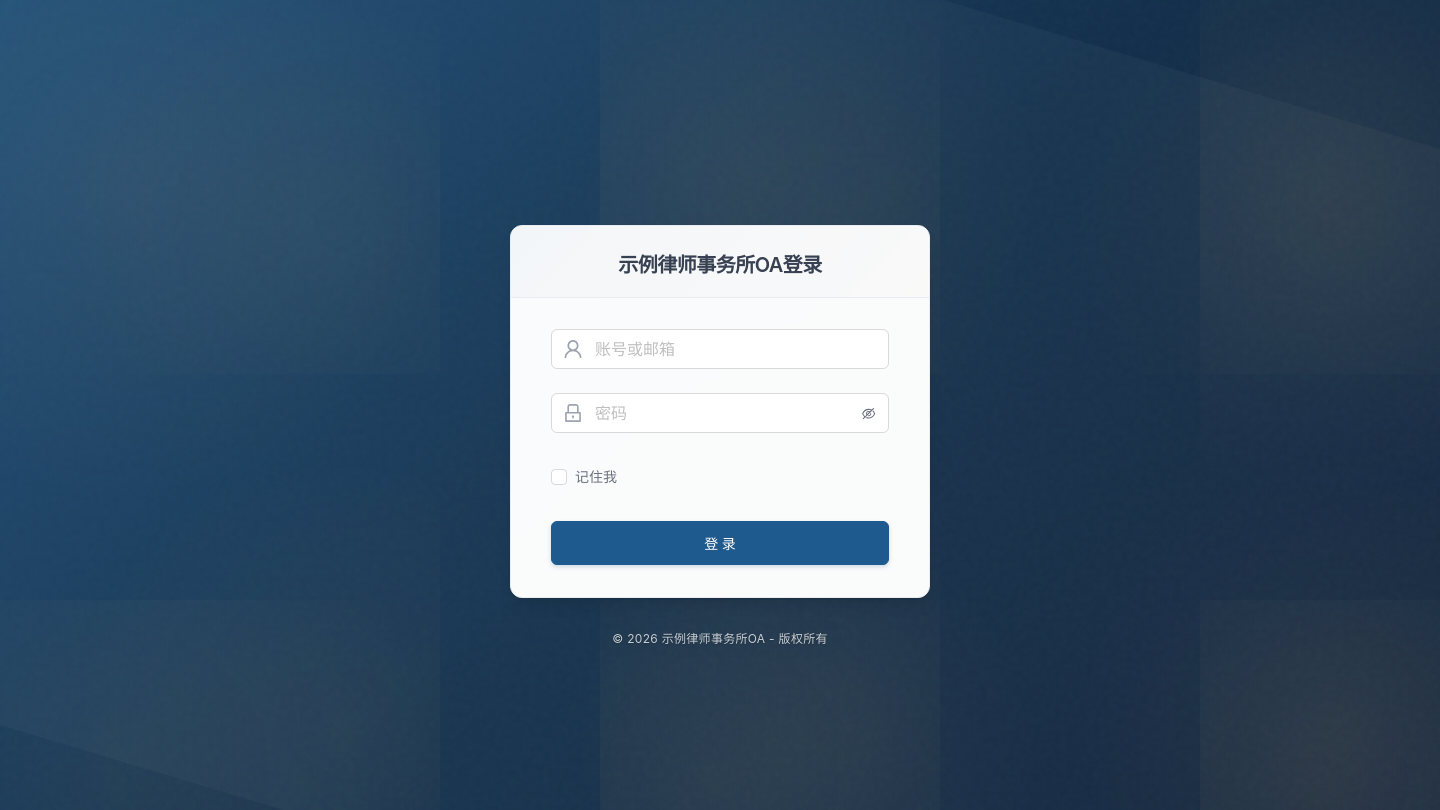
Test: LoginPage login failure › renders a visible non-sensitive alert and preserves account case on 401
Type "  Lawyer.Wang  " into the field with placeholder "账号或邮箱" at (736, 349), box [595, 337, 877, 361]
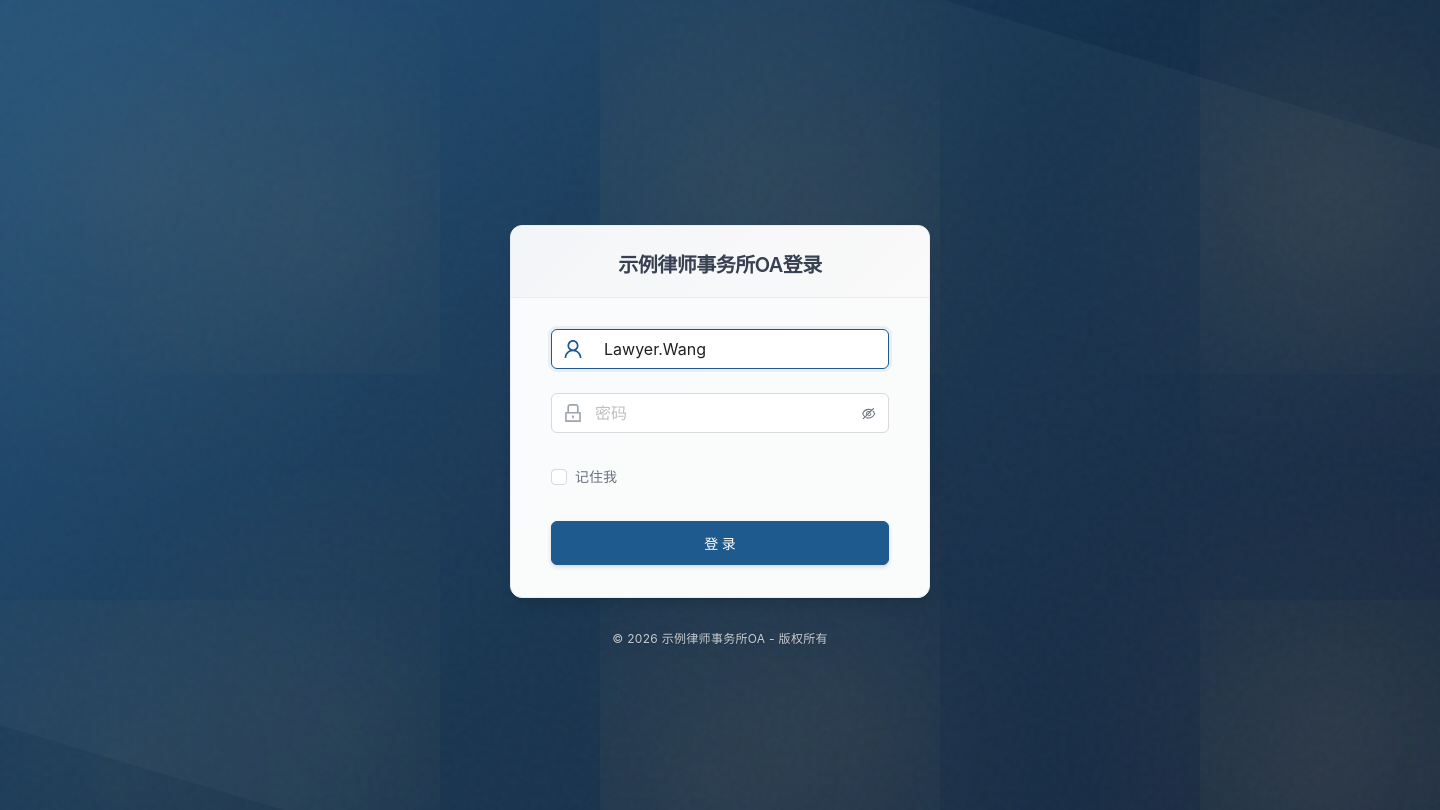
Type "WrongPassword123!" into the password field with placeholder "密码" at (722, 413), box [595, 401, 849, 425]
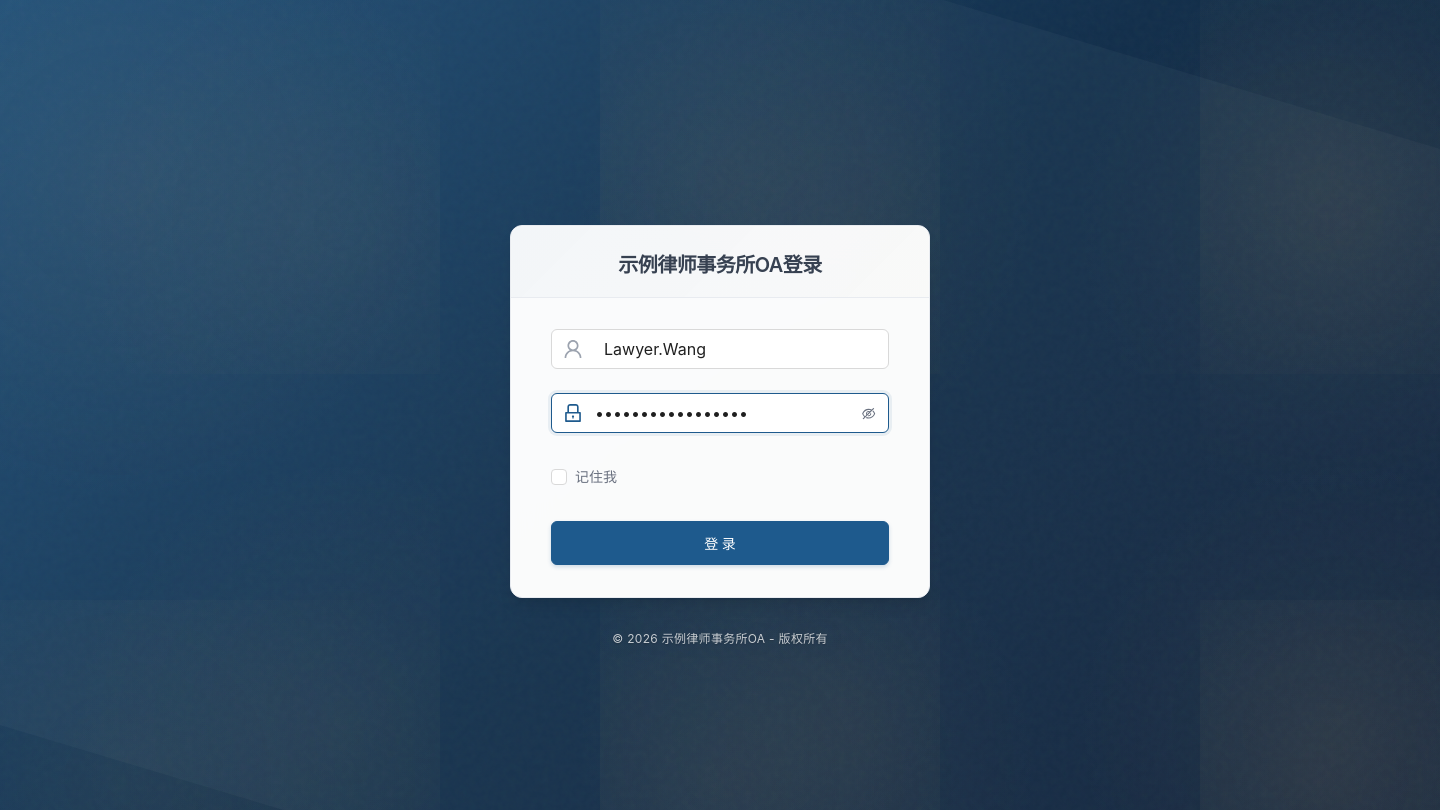
Click the button "登 录" at (720, 543), box [551, 521, 889, 565]
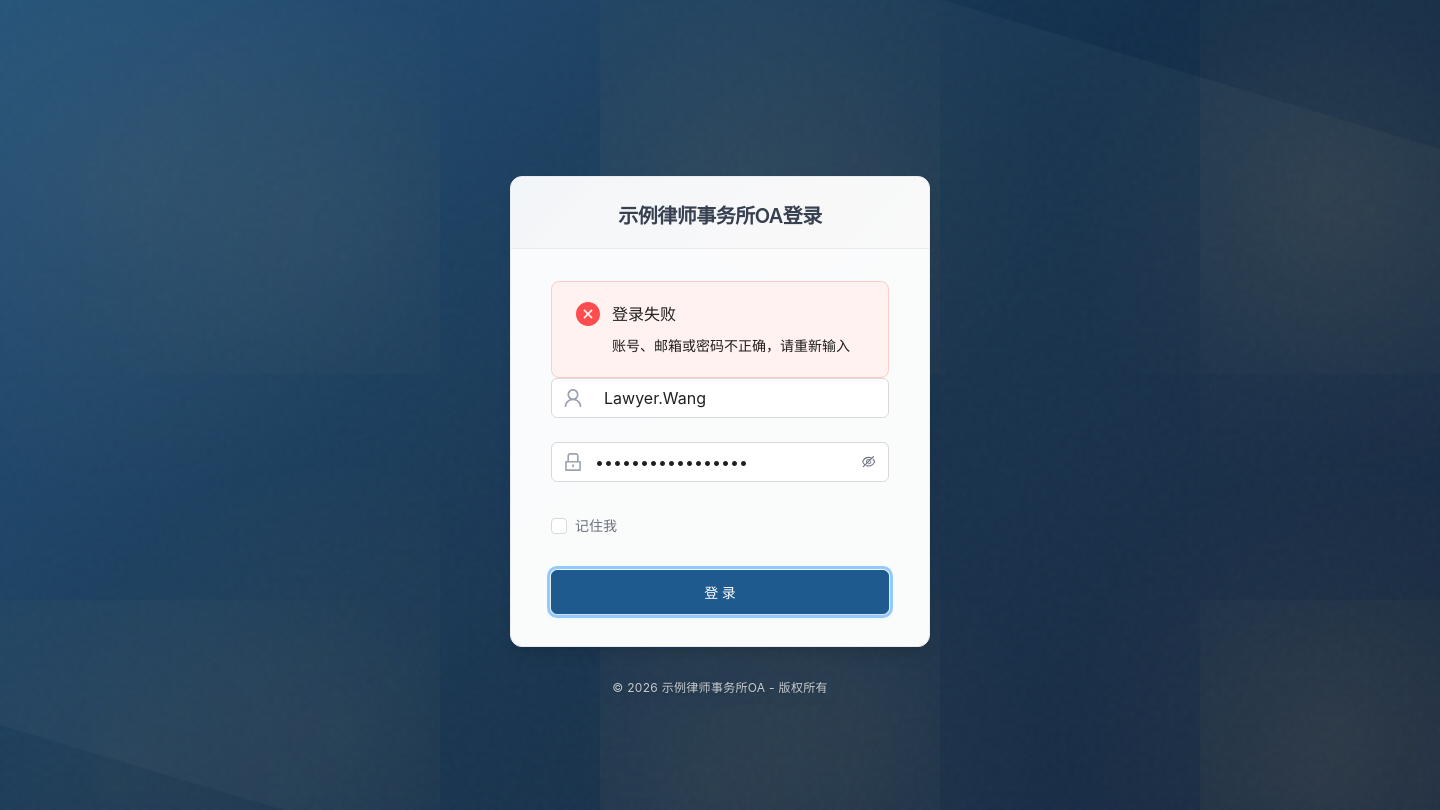
Expected: the message does not show "邮箱或密码错误", [551, 281, 889, 378]
Result: the message shows "账号、邮箱或密码不正确，请重新输入" at [612, 337, 850, 354]
